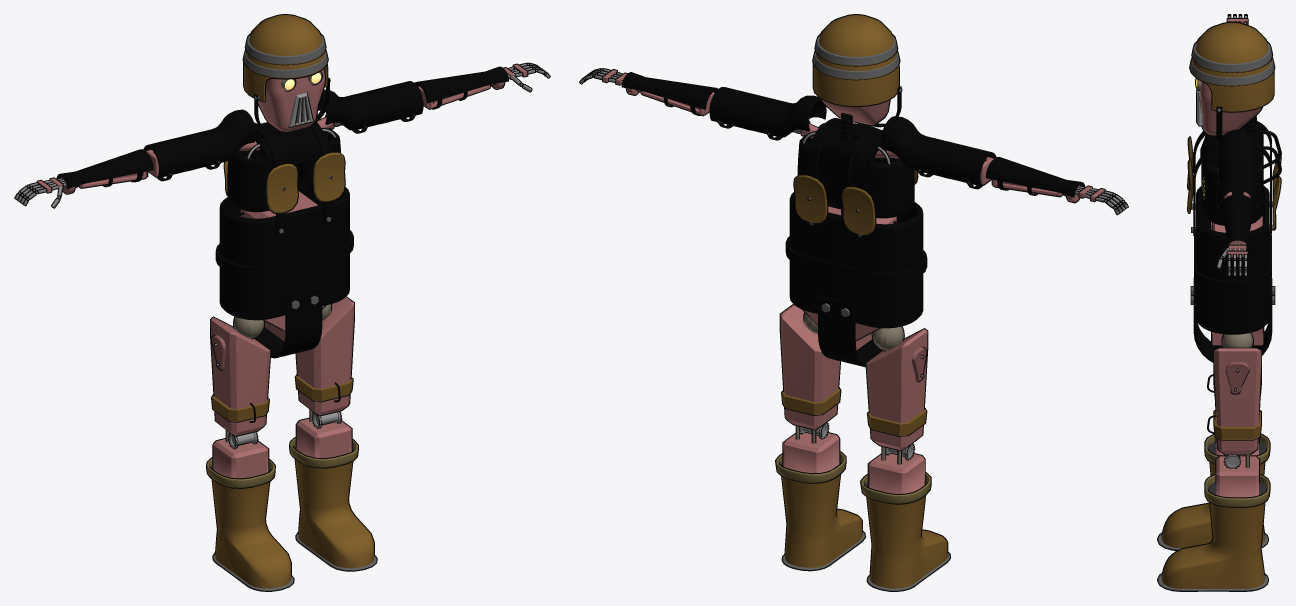
File: Robot4M.fbx
3 views of the same model, side by side, from view 1: azimuth 30°, elevation 25°; view 2: azimuth 150°, elevation 25°; view 3: azimuth 270°, elevation 25° (orthographic). The views are drawn at different scales.
Visible parts, largest first — view 1: Cylinder.001; view 2: Cylinder.001; view 3: Cylinder.001.
Part boxes in pixels (bbox=[...]): Cylinder.001: bbox=[14, 14, 550, 591]; Cylinder.001: bbox=[579, 14, 1128, 591]; Cylinder.001: bbox=[1157, 14, 1281, 591].
Size of the model in its own units: 428 by 414 by 87.6.
